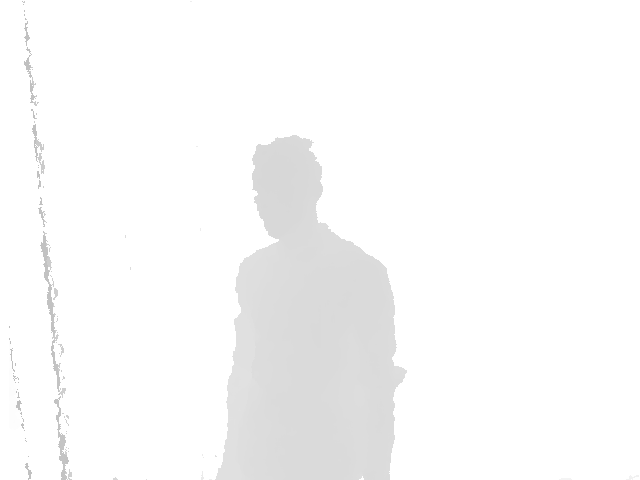head: (251, 134, 324, 239)
person: (212, 134, 410, 480)
